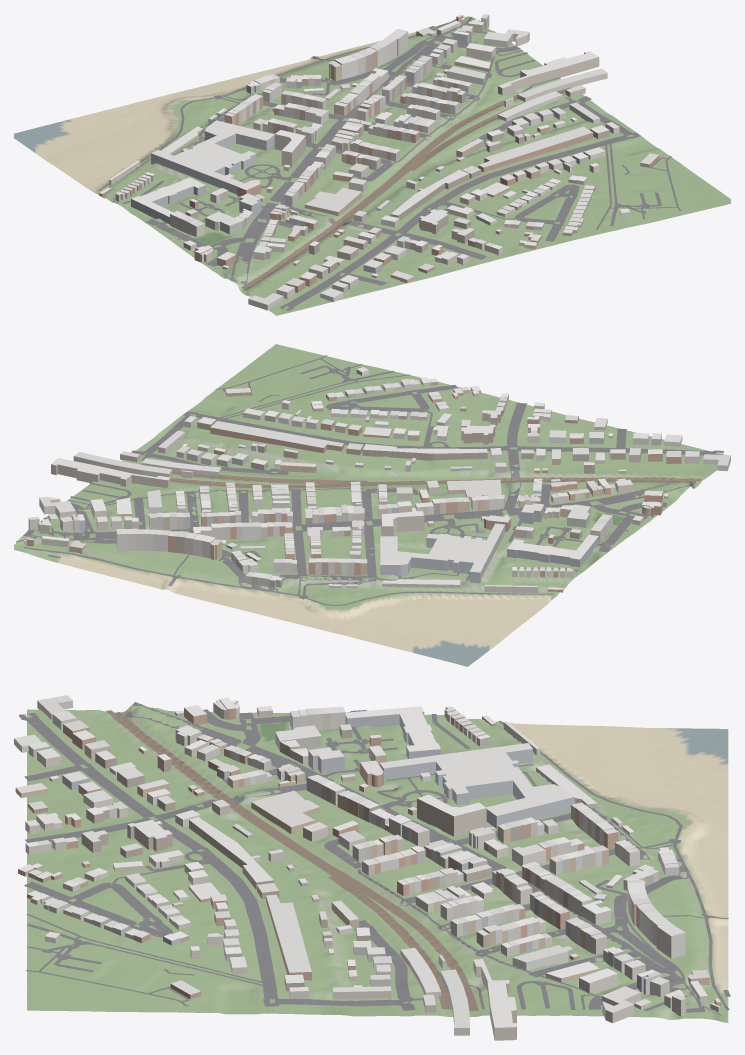
3 renders of one model, top to bottom at view 1: azimuth 30°, elevation 25°; view 2: azimuth 150°, elevation 25°; view 3: azimuth 270°, elevation 25°, orthographic. The views are drawn at different scales.
Parts seen in each view (by area): view 1: prim0, prim1, prim2, prim3; view 2: prim0, prim1, prim2, prim3; view 3: prim0, prim1, prim2, prim3.
Boxes of the visible parts, box(x1,y1,x2,y2) form: prim0: box(14, 16, 730, 315); prim1: box(99, 14, 659, 310); prim2: box(98, 17, 680, 310); prim3: box(241, 87, 570, 290); prim0: box(14, 344, 726, 666); prim1: box(24, 367, 730, 593); prim2: box(16, 355, 724, 605); prim3: box(128, 471, 700, 488); prim0: box(27, 706, 728, 1022); prim1: box(14, 695, 720, 1040); prim2: box(19, 702, 730, 1015); prim3: box(106, 710, 478, 1011).
Bounding box in the file's own units: 575 × 33.98 × 524.
